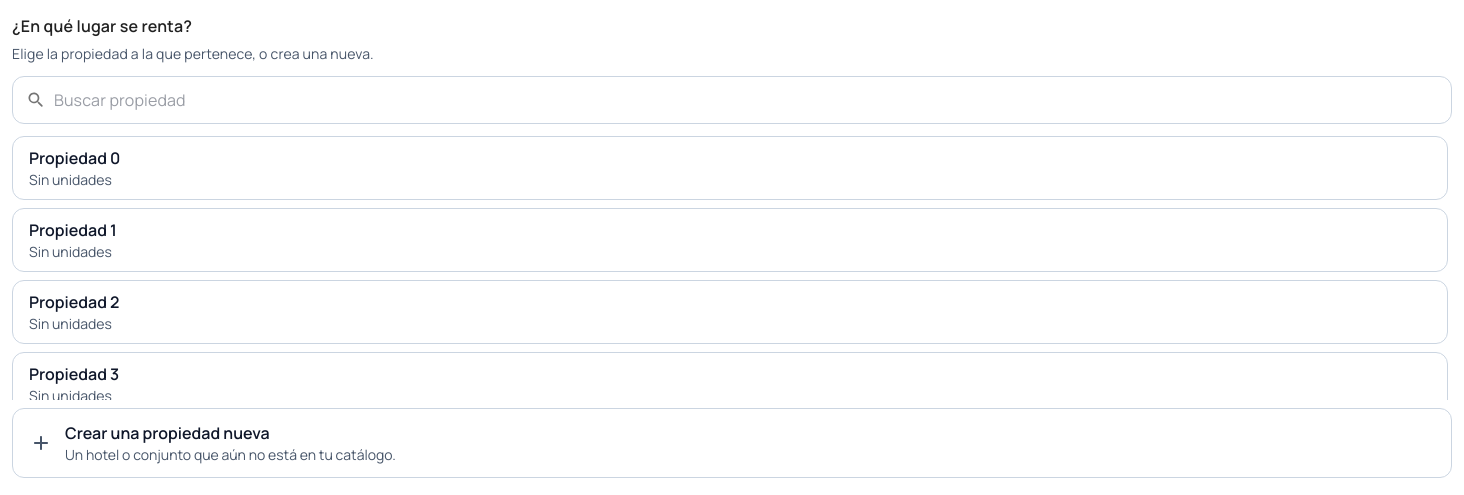
Test: PropertyPicker (US-A91) › D5 — search filters the properties but never hides the ⊕ escape
Type "Cabañas" into the field with placeholder "Buscar propiedad". click: point(753, 100)
box: [54, 76, 1452, 124]
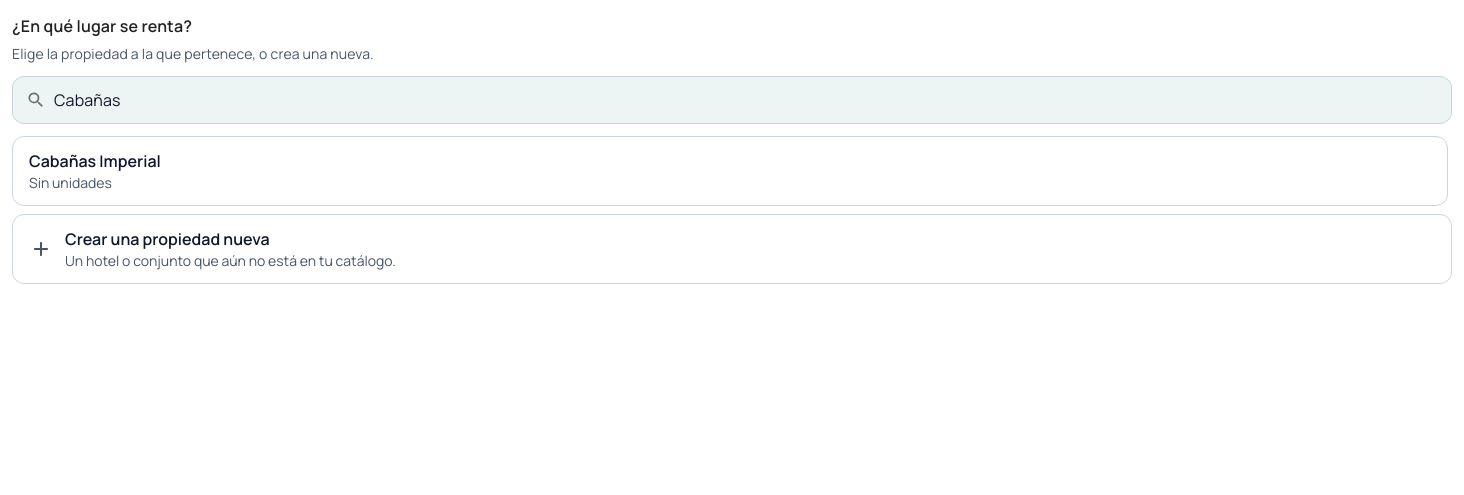
Expected: the text "Crear una propiedad nueva" is shown, [65, 228, 270, 250]
Result: the text "Cabañas Imperial" is shown at [29, 150, 161, 172]
Result: the button "Propiedad 0" is gone
